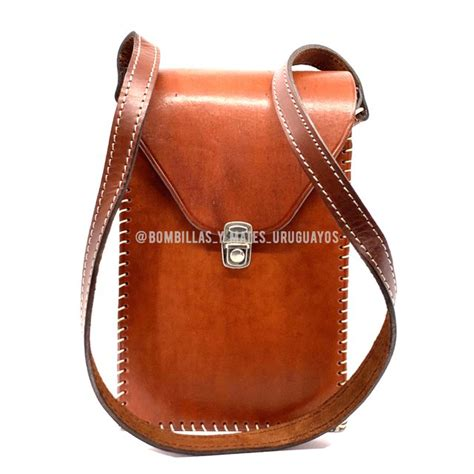cuero: (76, 26, 398, 457)
